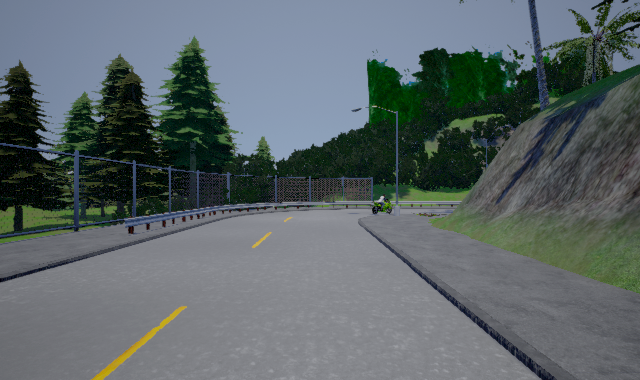motobike: (371, 193, 393, 215)
